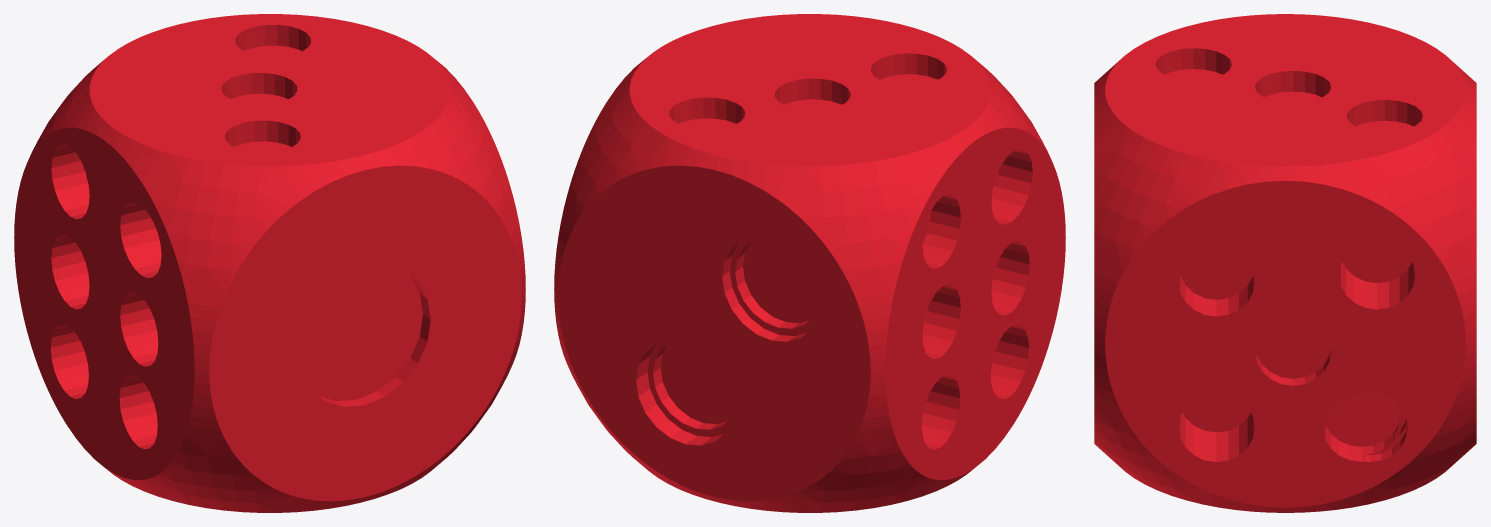
Rendered from tinker.obj.
3 renders of one model, left to right at view 1: azimuth 30°, elevation 25°; view 2: azimuth 150°, elevation 25°; view 3: azimuth 270°, elevation 25°, orthographic.
Parts seen in each view (by area): view 1: obj_0; view 2: obj_0; view 3: obj_0.
Part boxes in pixels (box(x1,y1,x2,y2)): obj_0: box(14, 14, 525, 512); obj_0: box(554, 14, 1065, 512); obj_0: box(1094, 14, 1476, 512).
Size of the model in its own units: 50 by 50 by 50.
